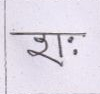anusvara: (68, 37, 73, 42)
